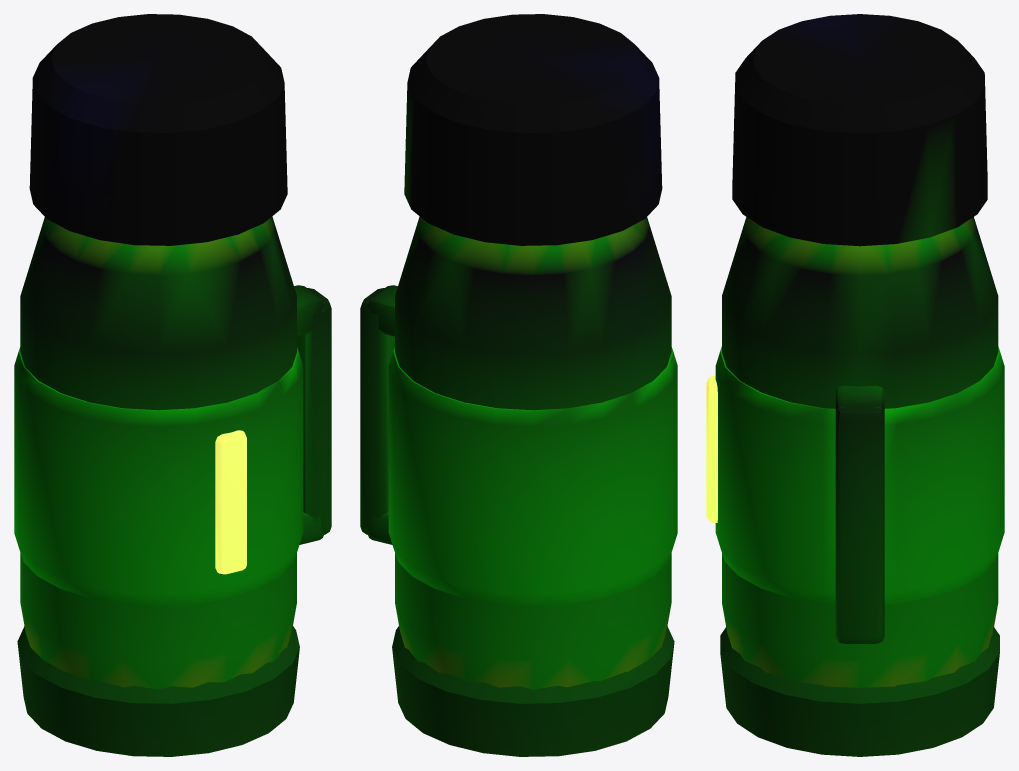
Rendered from hero_thermos.glb.
3 renders of one model, left to right at view 1: azimuth 30°, elevation 25°; view 2: azimuth 150°, elevation 25°; view 3: azimuth 270°, elevation 25°, orthographic.
Parts seen in each view (by area): view 1: HeroThermos; view 2: HeroThermos; view 3: HeroThermos.
Boxes of the visible parts, <box> form: HeroThermos: <box>14,14,331,756</box>; HeroThermos: <box>360,14,677,756</box>; HeroThermos: <box>706,14,1004,756</box>.
Bounding box in the file's own units: 0.218 × 0.46 × 0.194.
